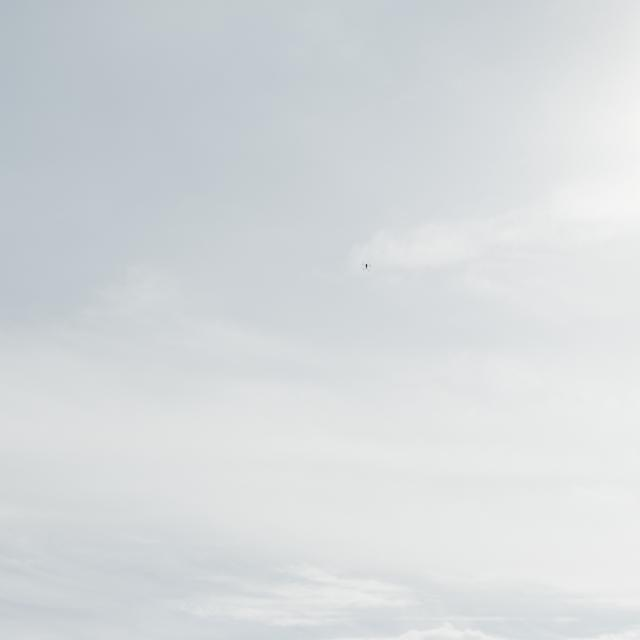Airaplan: (361, 262, 371, 272)
